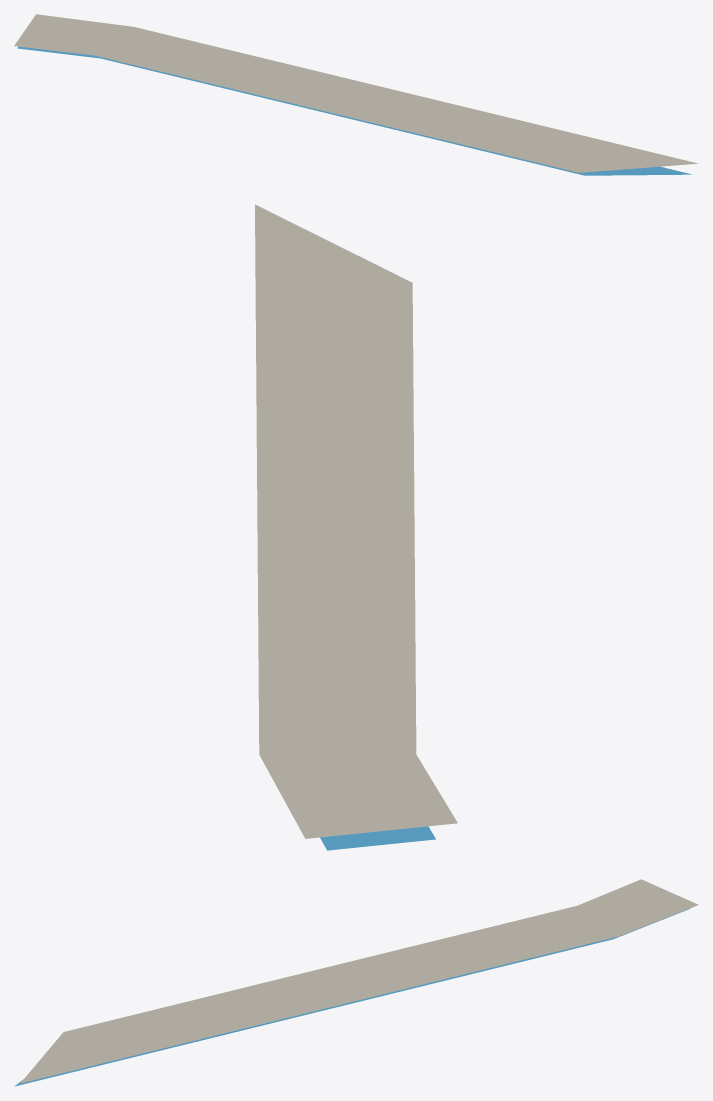
The picture shows the model from 3 angles, top to bottom: view 1: azimuth 30°, elevation 25°; view 2: azimuth 150°, elevation 25°; view 3: azimuth 270°, elevation 25°; orthographic projection. The views are drawn at different scales.
Visible parts, largest first — view 1: estructura_terreno, estructura_agua; view 2: estructura_terreno, estructura_agua; view 3: estructura_terreno, estructura_agua.
Part boxes in pixels (bbox=[...]): estructura_terreno: bbox=[14, 14, 697, 172]; estructura_agua: bbox=[17, 46, 691, 175]; estructura_terreno: bbox=[255, 204, 457, 838]; estructura_agua: bbox=[320, 826, 435, 850]; estructura_terreno: bbox=[20, 879, 698, 1083]; estructura_agua: bbox=[14, 908, 690, 1086].
Size of the model in its own units: 24.28 by 0.41 by 34.39.
